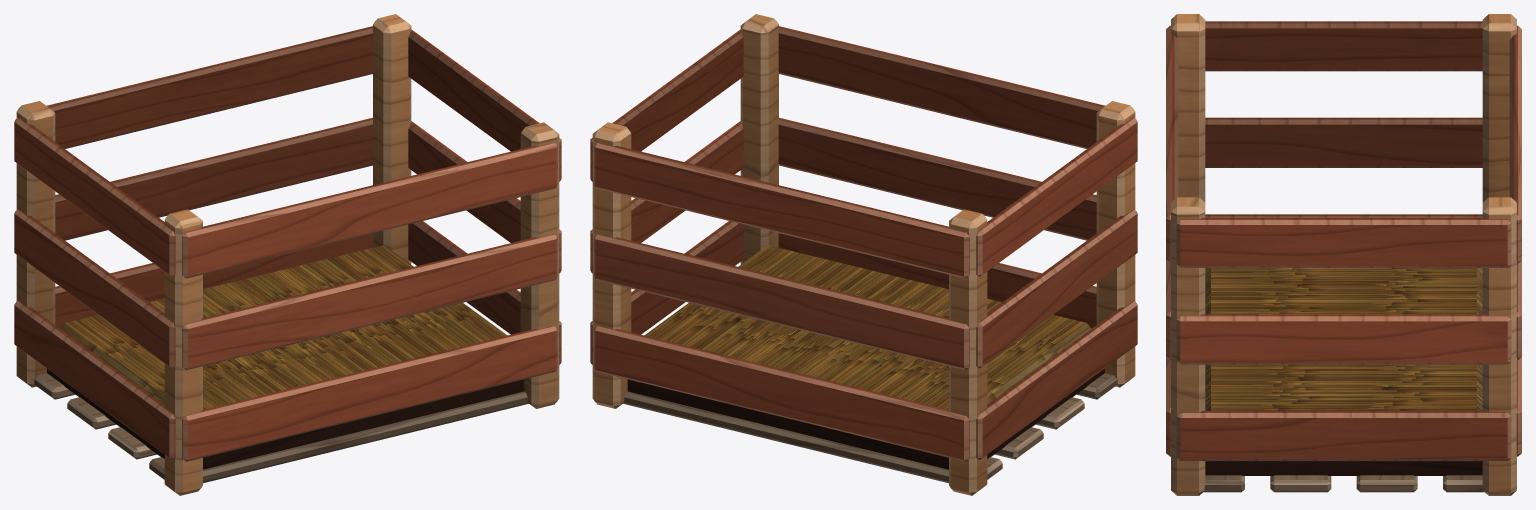
File: crate_b.glb
The picture shows the model from 3 angles, left to right: view 1: azimuth 30°, elevation 25°; view 2: azimuth 150°, elevation 25°; view 3: azimuth 270°, elevation 25°; orthographic projection. The views are drawn at different scales.
Visible parts, largest first — view 1: crate; view 2: crate; view 3: crate.
Boxes of the visible parts, x1,y1,x2,y2 form: crate: [14, 14, 561, 495]; crate: [590, 14, 1137, 495]; crate: [1166, 14, 1521, 495].
Size of the model in its own units: 0.628 by 0.42 by 0.468.
Materials: 2 (2 with a texture image).
